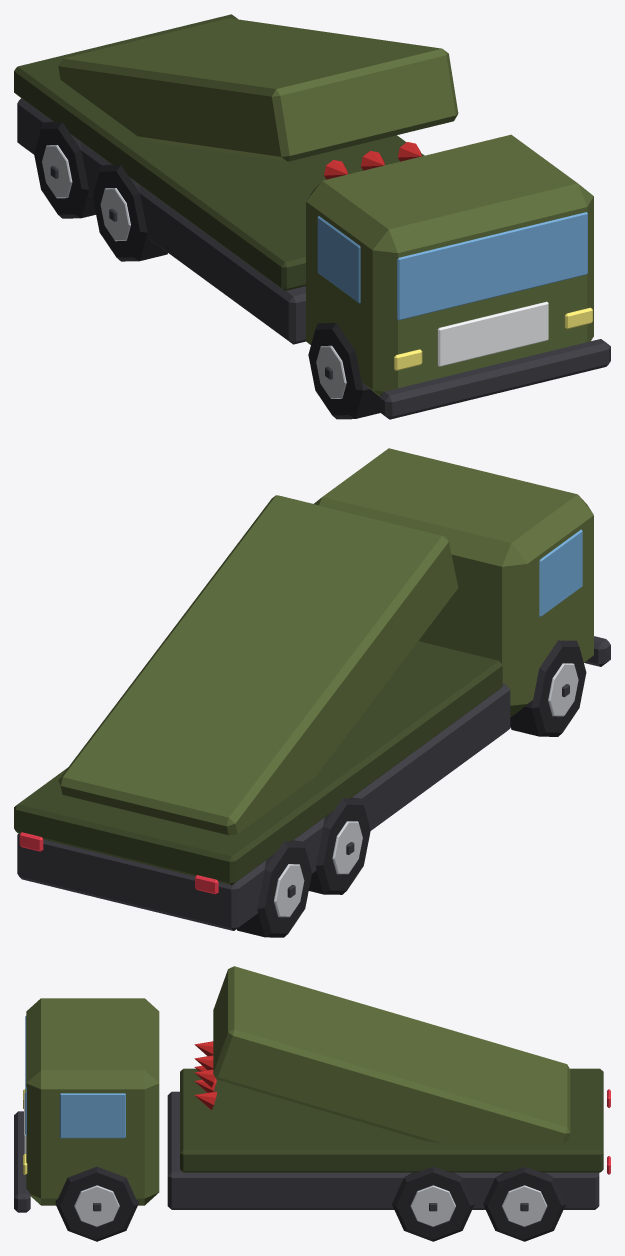
Rendered from MissileTruck.fbx.
3 renders of one model, top to bottom at view 1: azimuth 30°, elevation 25°; view 2: azimuth 150°, elevation 25°; view 3: azimuth 270°, elevation 25°, orthographic. The views are drawn at different scales.
Visible parts, largest first — view 1: MissileTruck, MissileTruck_Launcher, MissileTruck_WheelFR, MissileTruck_WheelMR, MissileTruck_WheelBR; view 2: MissileTruck, MissileTruck_Launcher, MissileTruck_WheelFR, MissileTruck_WheelBR, MissileTruck_WheelMR; view 3: MissileTruck, MissileTruck_Launcher, MissileTruck_WheelBL, MissileTruck_WheelML, MissileTruck_WheelFL.
Boxes of the visible parts, <box> form: MissileTruck: <box>14,14,610,419</box>; MissileTruck_Launcher: <box>58,18,458,179</box>; MissileTruck_WheelFR: <box>308,323,380,419</box>; MissileTruck_WheelMR: <box>92,164,167,261</box>; MissileTruck_WheelBR: <box>34,121,95,218</box>; MissileTruck: <box>14,448,610,930</box>; MissileTruck_Launcher: <box>58,495,458,835</box>; MissileTruck_WheelFR: <box>510,640,586,736</box>; MissileTruck_WheelBR: <box>237,840,311,937</box>; MissileTruck_WheelMR: <box>308,797,370,894</box>; MissileTruck: <box>14,998,610,1212</box>; MissileTruck_Launcher: <box>194,966,570,1142</box>; MissileTruck_WheelBL: <box>483,1166,565,1241</box>; MissileTruck_WheelML: <box>392,1166,474,1241</box>; MissileTruck_WheelFL: <box>55,1166,138,1241</box>.
Bounding box in the file's own units: 5.22 × 5.37 × 14.38.
1 material, 1 textured.
